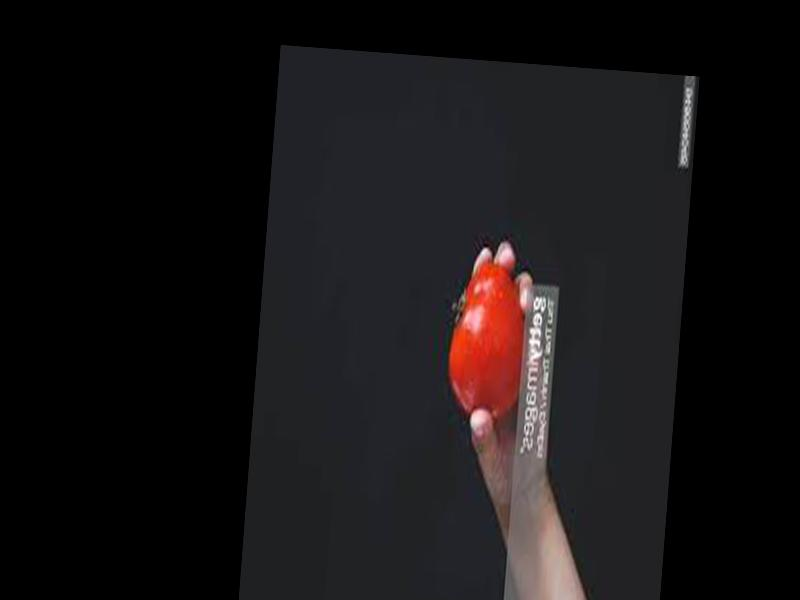Tomato: (444, 255, 532, 416)
